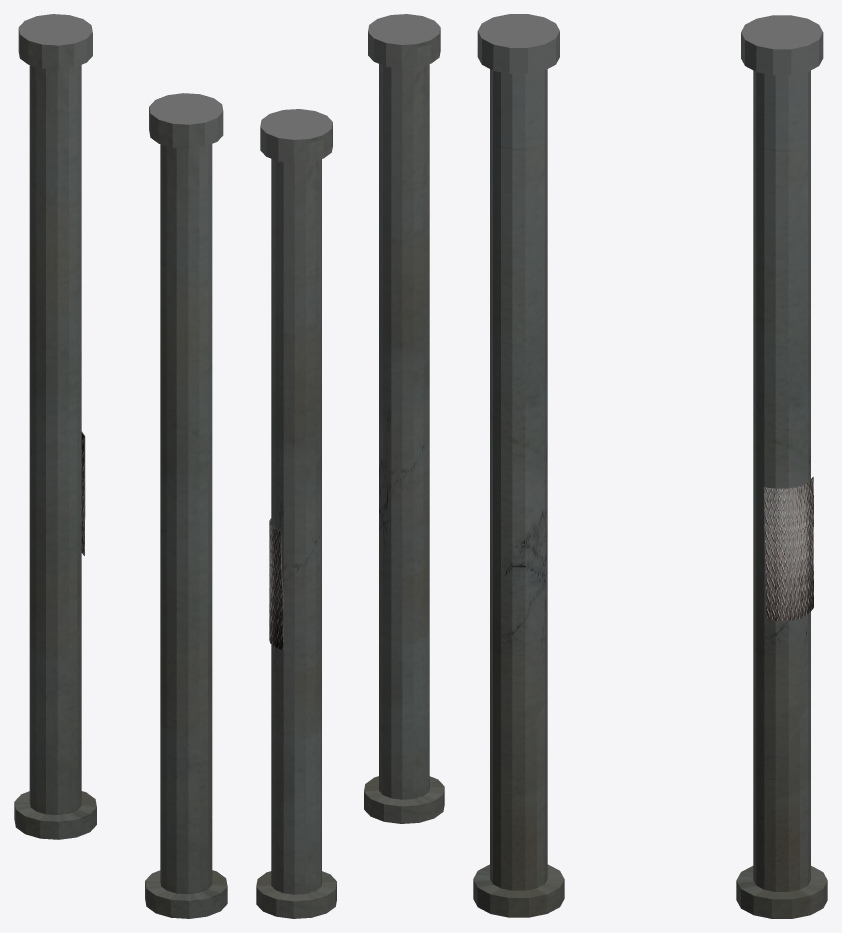
Rendered from fixedpipes3.fbx.
The picture shows the model from 3 angles, left to right: view 1: azimuth 30°, elevation 25°; view 2: azimuth 150°, elevation 25°; view 3: azimuth 270°, elevation 25°; orthographic projection. The views are drawn at different scales.
Parts seen in each view (by area): view 1: Cylinder.001, Cylinder, Cube; view 2: Cylinder.001, Cylinder, Cube; view 3: Cylinder.001, Cylinder, Cube.
Part boxes in pixels (left/top/right/bottom): Cylinder.001: left=145, top=93, right=227, bottom=918; Cylinder: left=14, top=14, right=96, bottom=839; Cube: left=81, top=431, right=85, bottom=555; Cylinder.001: left=364, top=14, right=444, bottom=823; Cylinder: left=256, top=109, right=336, bottom=918; Cube: left=269, top=518, right=283, bottom=650; Cylinder.001: left=473, top=14, right=564, bottom=917; Cylinder: left=736, top=15, right=827, bottom=918; Cube: left=763, top=476, right=813, bottom=621.
Bounding box in the file's own units: 35.66 × 337 × 124.
Materials: 3 (3 with a texture image).
